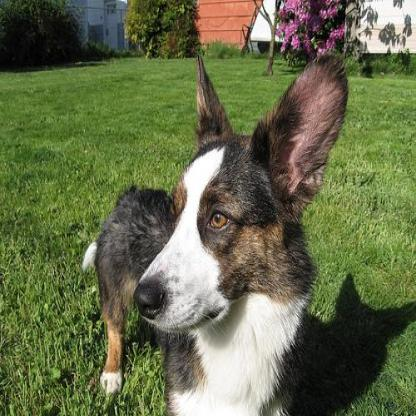Cardigan: (82, 51, 349, 414)
